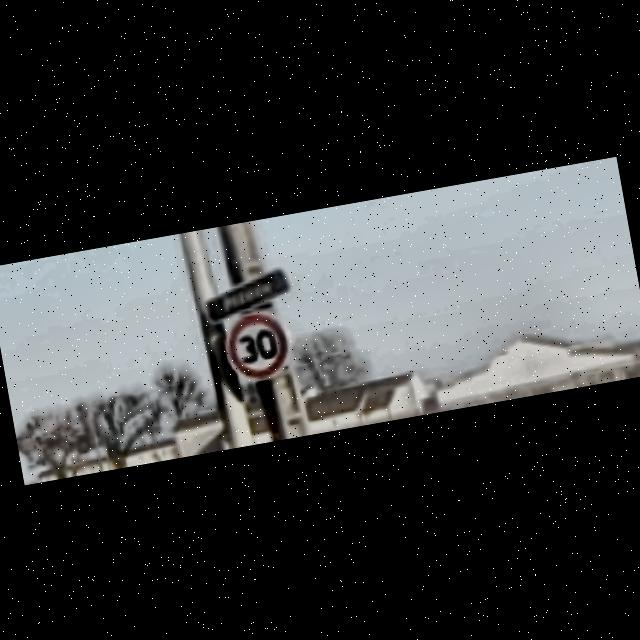speed_30: (219, 306, 296, 384)
